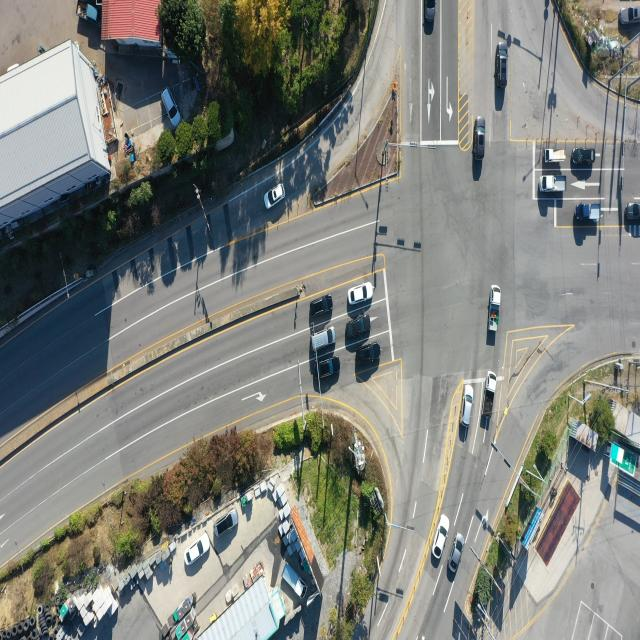car: (494, 38, 510, 89), (161, 89, 180, 130), (187, 536, 211, 568), (314, 354, 343, 379), (432, 513, 448, 558), (460, 383, 474, 429), (312, 329, 338, 353), (215, 511, 237, 539), (266, 184, 287, 212), (448, 535, 463, 574), (356, 342, 381, 365), (346, 319, 370, 342), (348, 283, 373, 305), (309, 296, 334, 318), (476, 117, 487, 159), (571, 148, 594, 166), (620, 6, 640, 24), (625, 203, 640, 221), (426, 0, 436, 23)
small_truck: (284, 561, 307, 601), (481, 372, 498, 418), (488, 284, 501, 334), (74, 0, 100, 25), (577, 203, 602, 222), (540, 176, 567, 193), (543, 148, 565, 163)
